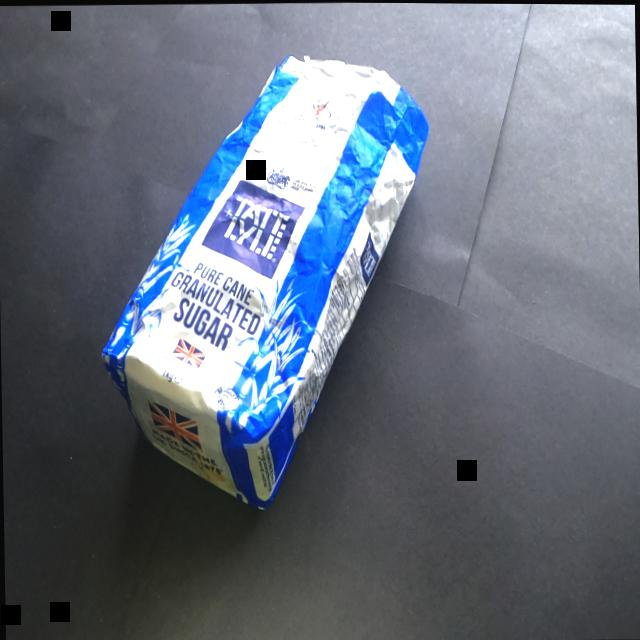Whitesugar: (86, 26, 461, 532)
